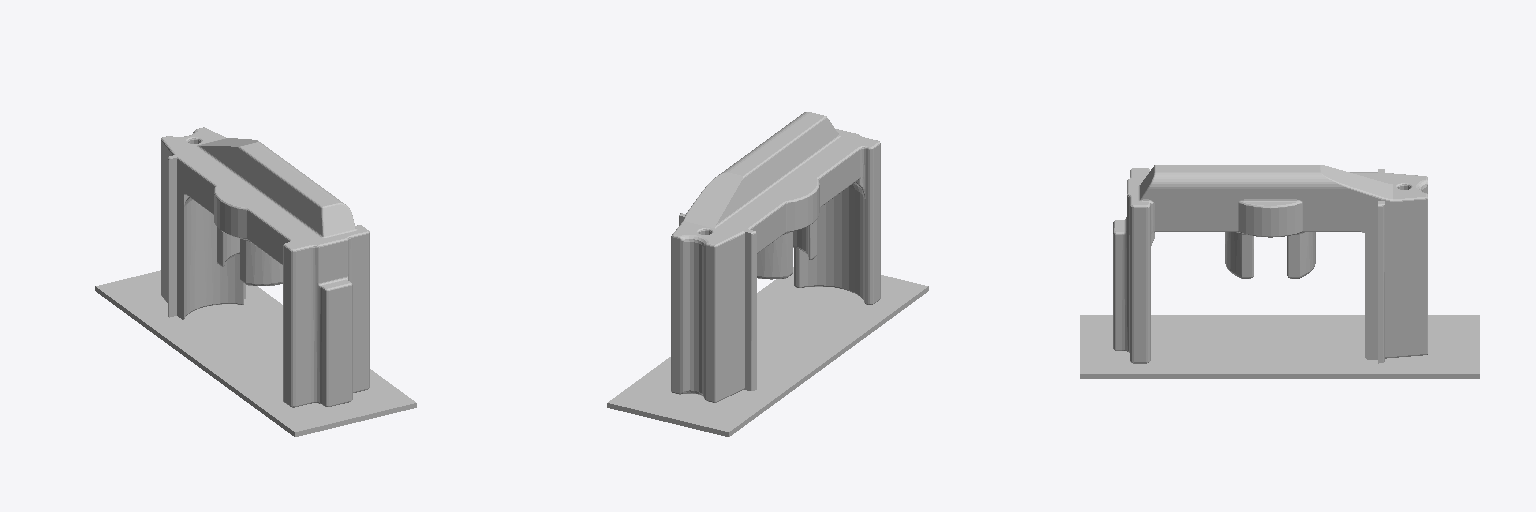
File: Ivan's Standard Follower.obj
3 views of the same model, side by side, from view 1: azimuth 30°, elevation 25°; view 2: azimuth 150°, elevation 25°; view 3: azimuth 270°, elevation 25° (orthographic).
Parts seen in each view (by area): view 1: Solid1; view 2: Solid1; view 3: Solid1.
Part boxes in pixels (x1,y1,x2,y2): Solid1: (95,127,416,436); Solid1: (607,112,928,436); Solid1: (1080,165,1479,378).
Size of the model in its own units: 25.54 by 37.53 by 72.6.